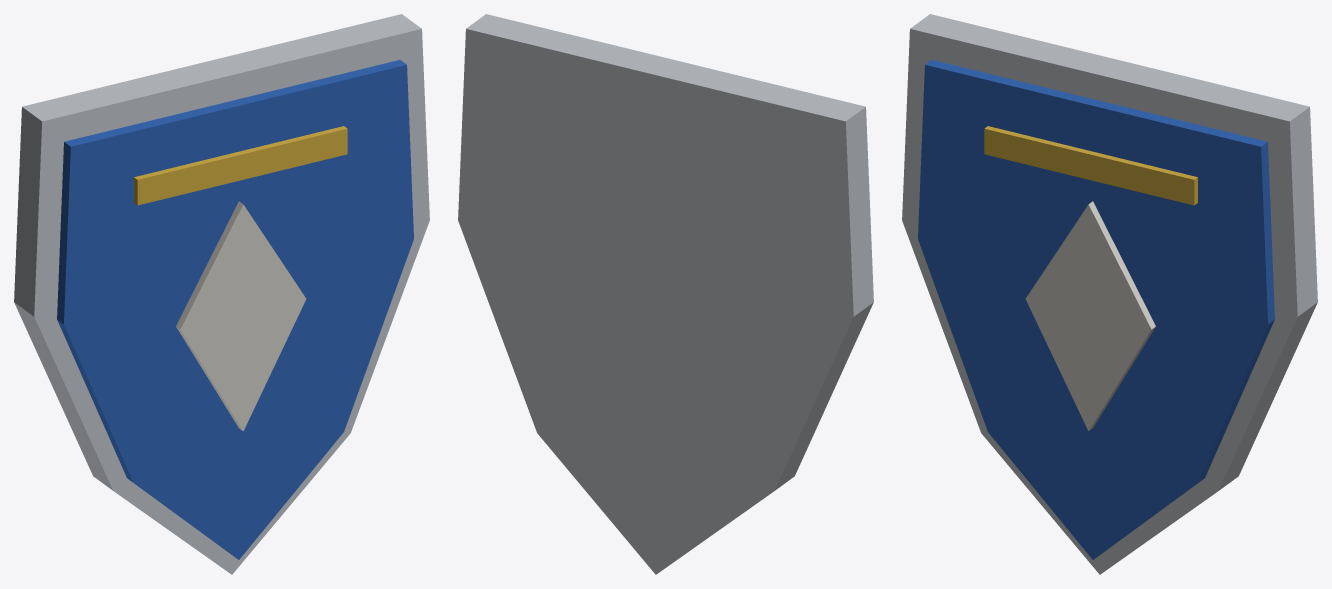
The model's file is shield.glb.
3 views of the same model, side by side, from view 1: azimuth 30°, elevation 25°; view 2: azimuth 150°, elevation 25°; view 3: azimuth 330°, elevation 25° (orthographic).
Visible parts, largest first — view 1: Shield; view 2: Shield; view 3: Shield.
Part boxes in pixels (x1=…): Shield: x1=14, y1=14, x2=429, y2=574; Shield: x1=458, y1=14, x2=873, y2=574; Shield: x1=902, y1=14, x2=1317, y2=574.
Size of the model in its own units: 0.565 by 0.682 by 0.078.
